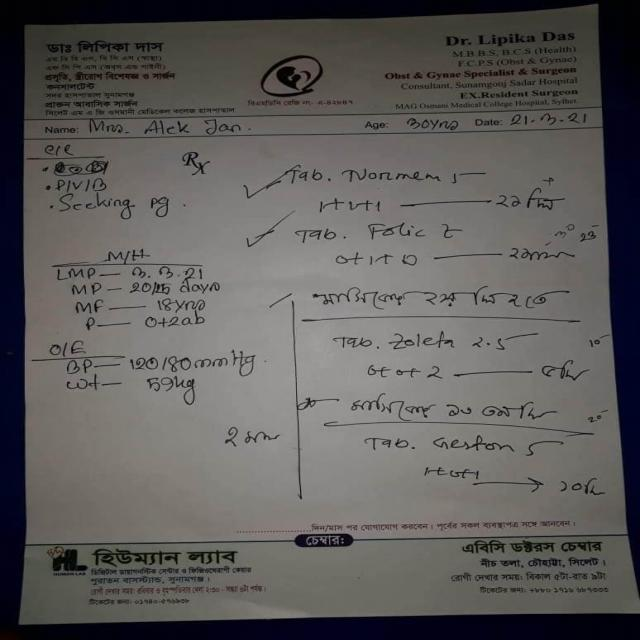Folic Z: (360, 216, 468, 244)
Geston: (424, 429, 520, 460)
Normens: (335, 159, 476, 193)
Zoleta: (383, 325, 459, 354)
